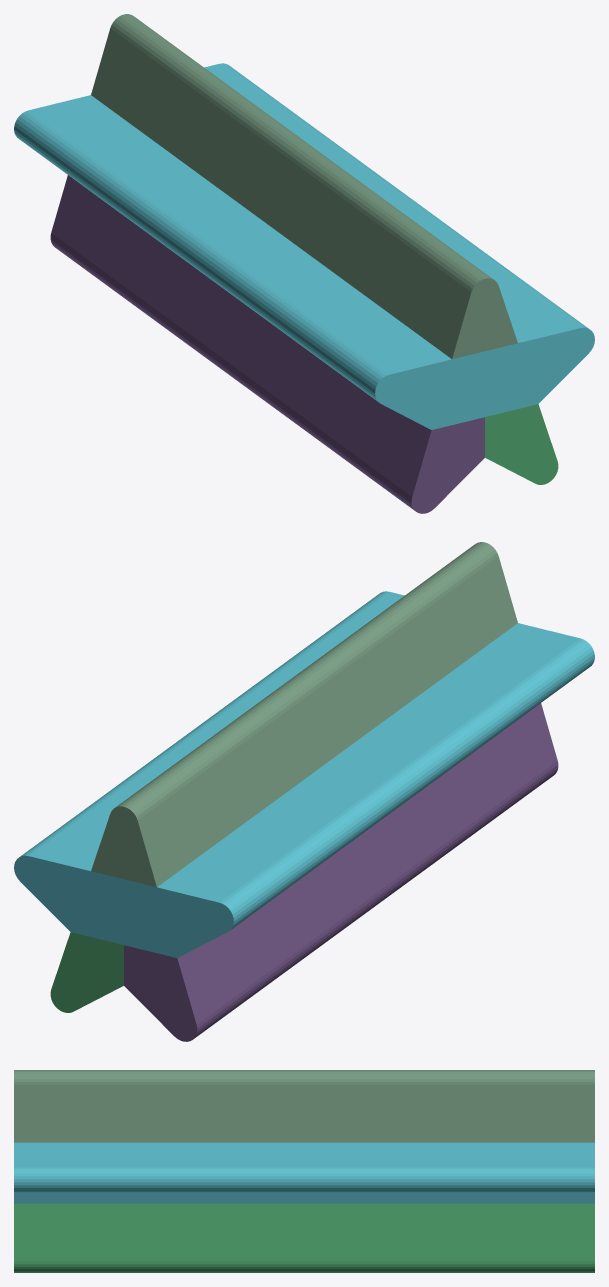
The model's file is peg_40_body.obj.
3 views of the same model, one above another, from view 1: azimuth 30°, elevation 25°; view 2: azimuth 150°, elevation 25°; view 3: azimuth 270°, elevation 25° (orthographic). The views are drawn at different scales.
Visible parts, largest first — view 1: geometry_2, geometry_0, geometry_1, geometry_3; view 2: geometry_2, geometry_0, geometry_1, geometry_3; view 3: geometry_0, geometry_3, geometry_2.
Part boxes in pixels (x1,y1,x2,y2): geometry_2: [14, 63, 594, 429]; geometry_0: [91, 14, 517, 359]; geometry_1: [50, 175, 484, 513]; geometry_3: [485, 404, 558, 484]; geometry_2: [14, 591, 594, 957]; geometry_0: [91, 542, 517, 887]; geometry_1: [124, 703, 558, 1041]; geometry_3: [50, 932, 123, 1012]; geometry_0: [14, 1070, 594, 1142]; geometry_3: [14, 1203, 594, 1272]; geometry_2: [14, 1142, 594, 1203].
Size of the model in its own units: 0.0439 by 0.0421 by 0.125.
